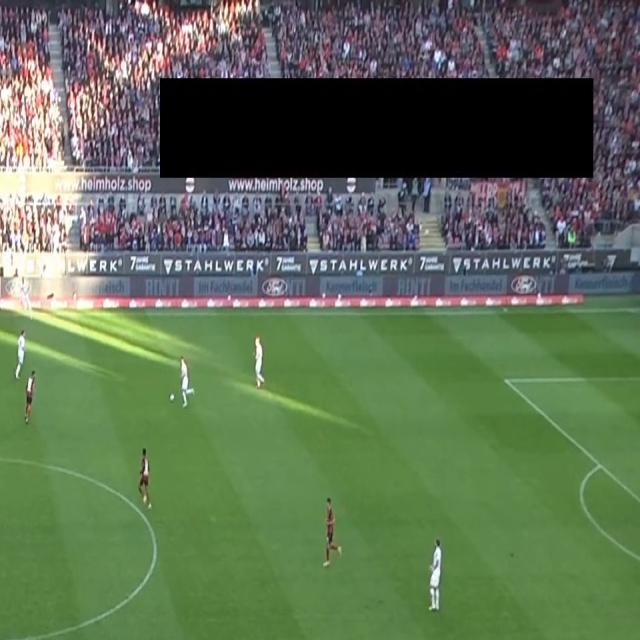ball: (170, 393, 174, 402)
